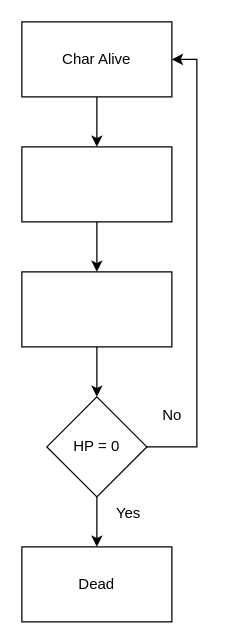
This 229x644 diagram has some shape labels left out. The shapes that lost their labels are listed below. From the top down, each one's centre as x and y in pixels, then its label:
the point at 96,184: Hit by Attack
the point at 96,309: Hp minus
